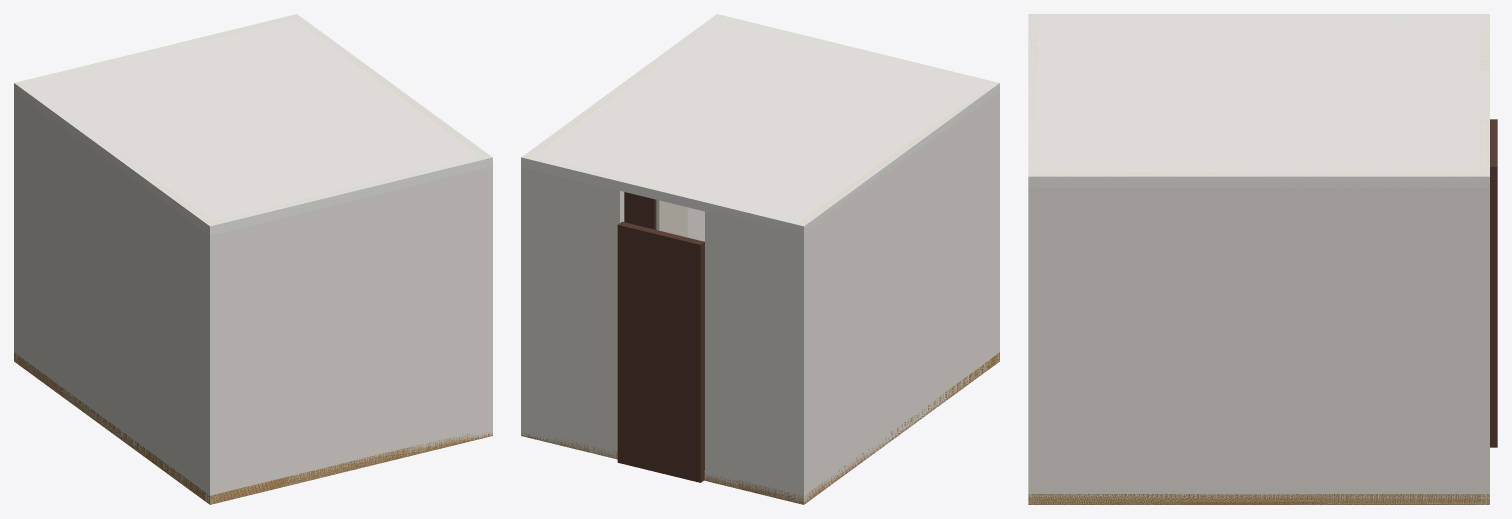
Rendered from 169-Crucero_camarote_interno.glb.
The picture shows the model from 3 angles, left to right: view 1: azimuth 30°, elevation 25°; view 2: azimuth 150°, elevation 25°; view 3: azimuth 270°, elevation 25°; orthographic projection. The views are drawn at different scales.
Parts seen in each view (by area): view 1: SM_Cri_interno_Pared_Popa, SM_Cri_interno_Techo, SM_Cri_interno_Pared_Izq, SM_Cri_interno_Piso, SM_Cri_interno_Pared_Der, SM_Cri_interno_Pared_Frente; view 2: SM_Cri_interno_Techo, SM_Cri_interno_Pared_Izq, SM_Cri_interno_Pared_Frente, SM_Cri_interno_Pared_Frente2, SM_Cri_interno_Puerta, SM_Cri_interno_Piso, SM_Cri_interno_Pared_Der, SM_Cri_interno_interno_interno_interno_interno_interno_inte, SM_Cri_interno_interno_interno_interno_interno_interno_inte.; view 3: SM_Cri_interno_Pared_Der, SM_Cri_interno_Techo, SM_Cri_interno_Piso, SM_Cri_interno_Pared_Frente2, SM_Cri_interno_Puerta, SM_Cri_interno_Pared_Popa, SM_Cri_interno_Pared_Izq.
Boxes of the visible parts, x1=… form: SM_Cri_interno_Pared_Popa: x1=205, y1=155, x2=492, y2=503; SM_Cri_interno_Techo: x1=14, y1=14, x2=492, y2=235; SM_Cri_interno_Pared_Izq: x1=14, y1=84, x2=217, y2=503; SM_Cri_interno_Piso: x1=14, y1=352, x2=492, y2=504; SM_Cri_interno_Pared_Der: x1=290, y1=14, x2=492, y2=435; SM_Cri_interno_Pared_Frente: x1=14, y1=59, x2=116, y2=364; SM_Cri_interno_Techo: x1=521, y1=14, x2=999, y2=235; SM_Cri_interno_Pared_Izq: x1=796, y1=83, x2=999, y2=504; SM_Cri_interno_Pared_Frente: x1=705, y1=199, x2=808, y2=504; SM_Cri_interno_Pared_Frente2: x1=521, y1=154, x2=624, y2=459; SM_Cri_interno_Puerta: x1=617, y1=221, x2=704, y2=482; SM_Cri_interno_Piso: x1=521, y1=352, x2=999, y2=504; SM_Cri_interno_Pared_Der: x1=521, y1=14, x2=722, y2=435; SM_Cri_interno_interno_interno_interno_interno_interno_inte: x1=624, y1=192, x2=656, y2=229; SM_Cri_interno_interno_interno_interno_interno_interno_inte.: x1=656, y1=199, x2=687, y2=237; SM_Cri_interno_Pared_Der: x1=1028, y1=172, x2=1489, y2=504; SM_Cri_interno_Techo: x1=1028, y1=14, x2=1489, y2=187; SM_Cri_interno_Piso: x1=1028, y1=494, x2=1489, y2=504; SM_Cri_interno_Pared_Frente2: x1=1480, y1=120, x2=1489, y2=504; SM_Cri_interno_Puerta: x1=1490, y1=119, x2=1497, y2=447; SM_Cri_interno_Pared_Popa: x1=1028, y1=15, x2=1038, y2=503; SM_Cri_interno_Pared_Izq: x1=1028, y1=14, x2=1489, y2=18.
Bounding box in the file's own units: 2.55 × 2.4 × 3.11.
